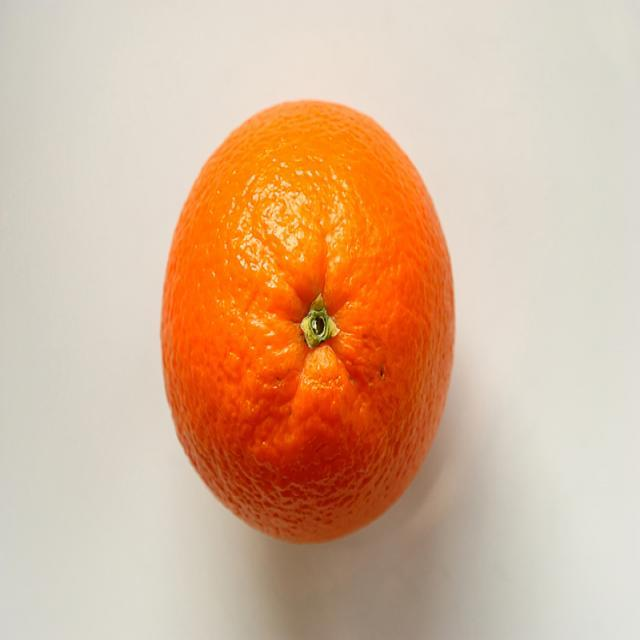Orange: (160, 99, 458, 546)
